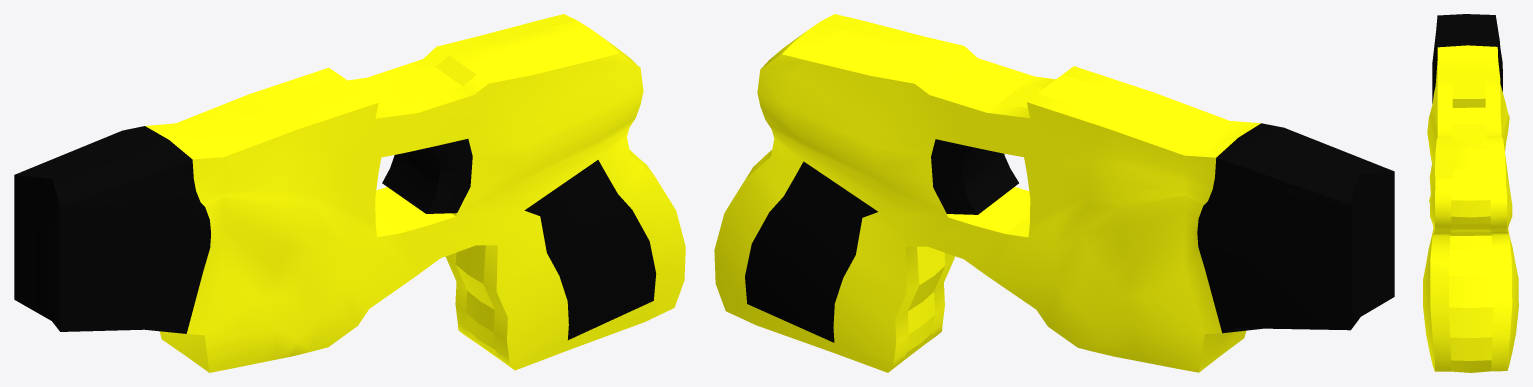
Rendered from TaserBeta1.fbx.
3 views of the same model, side by side, from view 1: azimuth 30°, elevation 25°; view 2: azimuth 150°, elevation 25°; view 3: azimuth 270°, elevation 25° (orthographic). The views are drawn at different scales.
Parts seen in each view (by area): view 1: pCube1; view 2: pCube1; view 3: pCube1.
Boxes of the visible parts, x1,y1,x2,y2 form: pCube1: (14, 14, 685, 372); pCube1: (714, 14, 1394, 372); pCube1: (1423, 14, 1518, 372).
Bounding box in the file's own units: 5.85 × 2.67 × 1.18.
